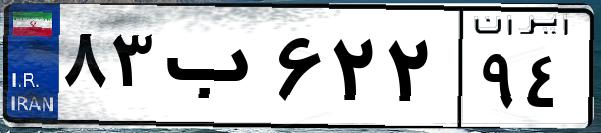2: (385, 28, 445, 110), (330, 28, 385, 110)
3: (110, 28, 158, 98)
4: (525, 38, 570, 115)
6: (270, 28, 330, 110)
8: (57, 26, 110, 100)
9: (475, 38, 525, 113)
ب: (158, 20, 270, 120)
